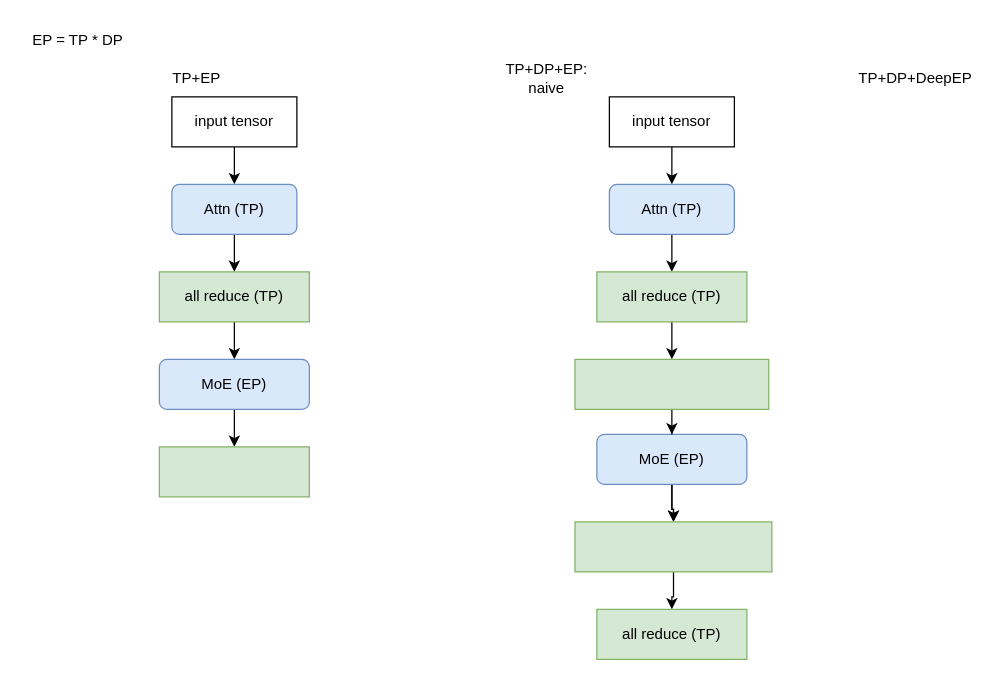
This 994x681 diagram has some shape labels left out. The shapes that lost their labels are listed below. From the top down, each one's box as (x1, y1, x2, y2) in pixels, then its label:
(574, 358, 769, 409): dispatch (DP AllGather)
(158, 446, 309, 497): all reduce (TP/EP)
(574, 521, 772, 572): combine (DP ReduceScatter)
